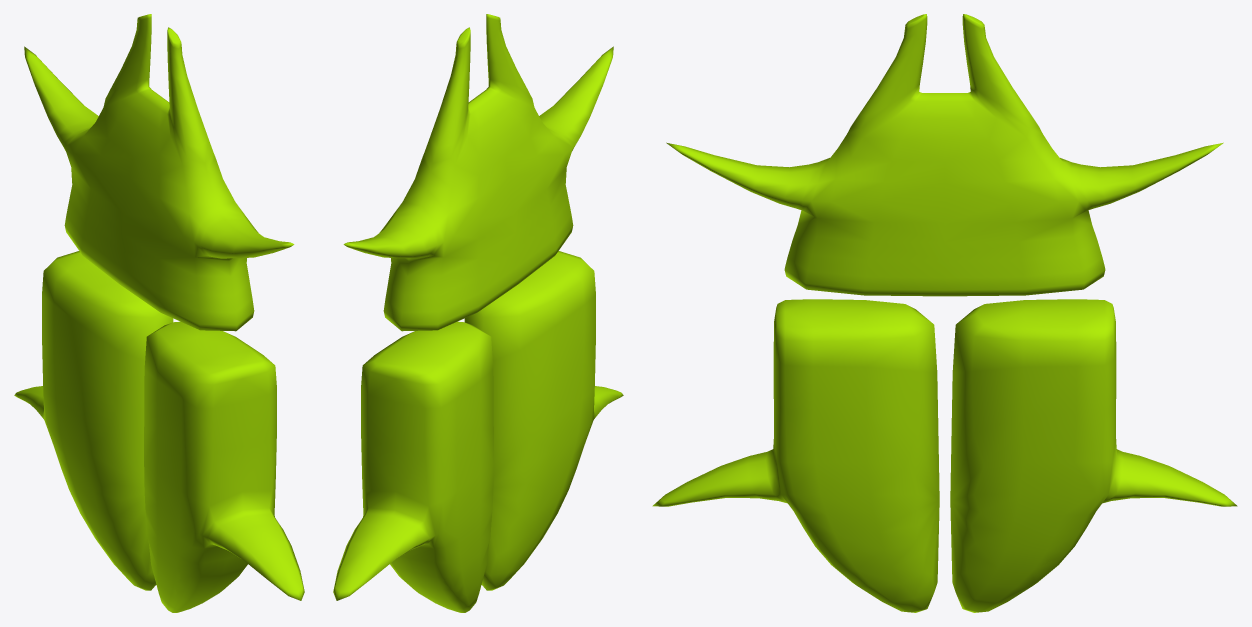
Rendered from bug.fbx.
3 views of the same model, side by side, from view 1: azimuth 30°, elevation 25°; view 2: azimuth 150°, elevation 25°; view 3: azimuth 270°, elevation 25° (orthographic). The views are drawn at different scales.
Parts seen in each view (by area): view 1: Cube.001; view 2: Cube.001; view 3: Cube.001.
Part boxes in pixels (<box>): Cube.001: <box>14,14,304,612</box>; Cube.001: <box>333,14,623,612</box>; Cube.001: <box>652,14,1237,612</box>.
Bounding box in the file's own units: 25.16 × 166 × 147.
